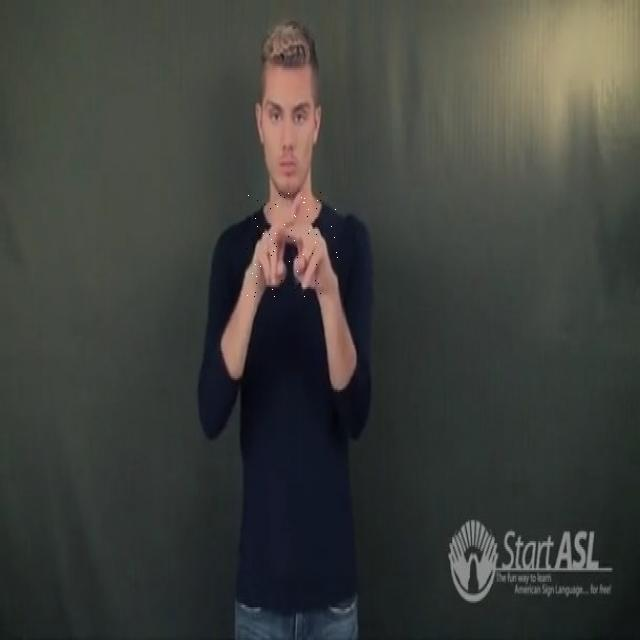salt: (246, 192, 338, 300)
